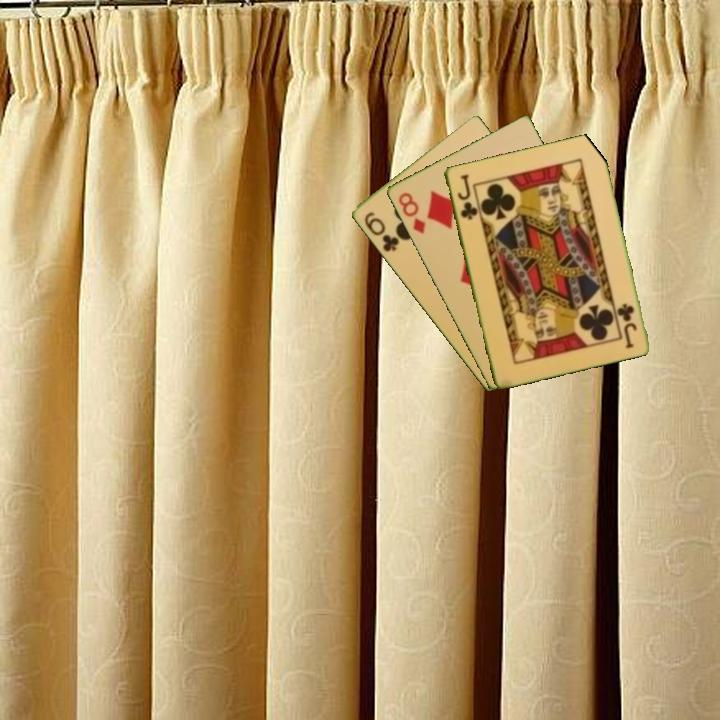6c: (360, 208, 402, 255)
8d: (394, 189, 428, 237)
Jc: (454, 170, 479, 223), (614, 300, 639, 351)
